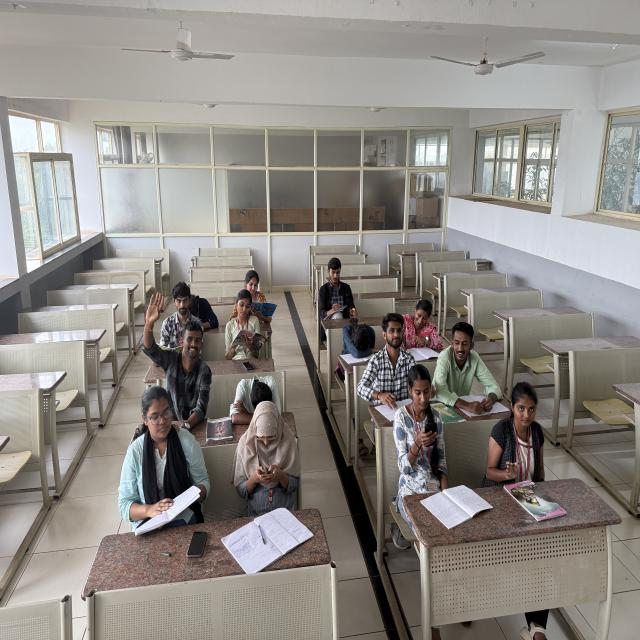Hand Rising: (138, 291, 215, 409)
Reading: (118, 383, 208, 527), (222, 289, 271, 361), (240, 266, 283, 325)
Sleeping: (229, 368, 284, 427), (337, 316, 379, 368), (182, 286, 223, 334)
Using Phone: (225, 398, 306, 502), (388, 365, 453, 494)
Writing: (481, 383, 545, 489), (365, 310, 421, 420), (397, 296, 444, 362), (314, 257, 356, 319)
